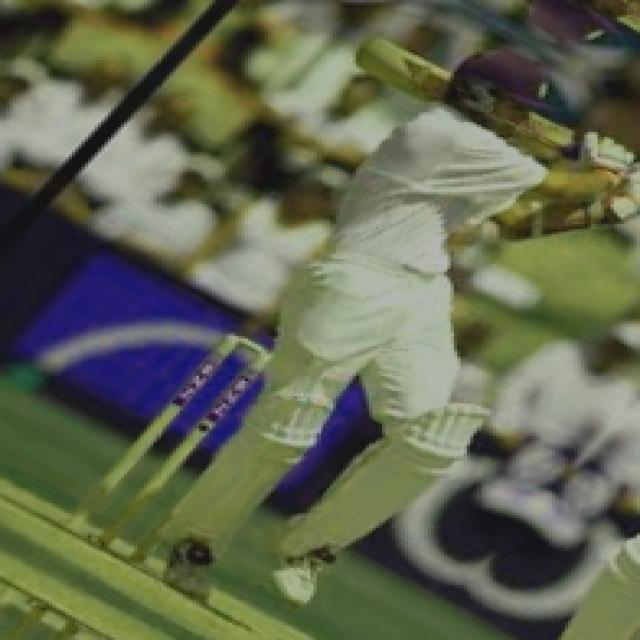toe: (355, 34, 383, 70)
